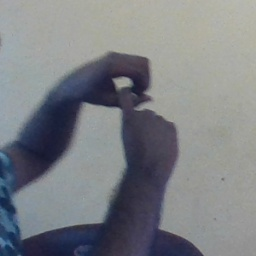Q: (58, 44, 184, 167)
